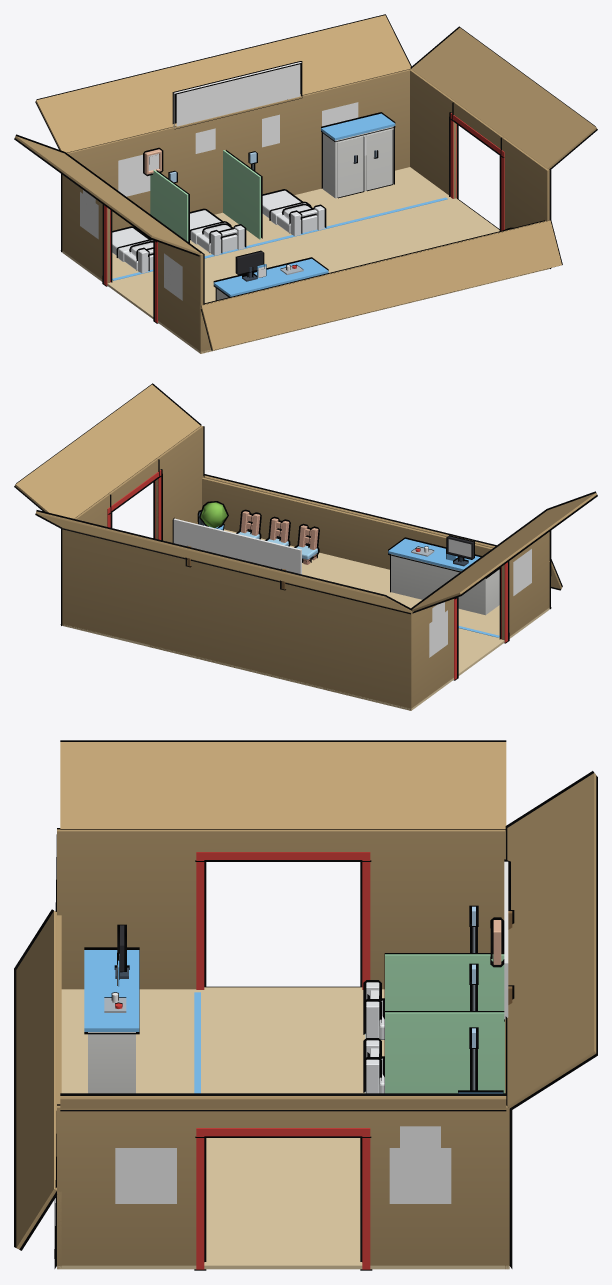
Rendered from BR_Box_Krankenhaus.glb.
The picture shows the model from 3 angles, top to bottom: view 1: azimuth 30°, elevation 25°; view 2: azimuth 150°, elevation 25°; view 3: azimuth 270°, elevation 25°; orthographic projection. The views are drawn at different scales.
Visible parts, largest first — view 1: BR_Box_Krankenhaus_Mesh, BR_Box_Krankenhaus_Outline; view 2: BR_Box_Krankenhaus_Mesh, BR_Box_Krankenhaus_Outline; view 3: BR_Box_Krankenhaus_Mesh, BR_Box_Krankenhaus_Outline.
Boxes of the visible parts, box(x1,y1,x2,y2) form: BR_Box_Krankenhaus_Mesh: box(15, 15, 596, 353); BR_Box_Krankenhaus_Outline: box(14, 14, 597, 350); BR_Box_Krankenhaus_Mesh: box(15, 384, 596, 710); BR_Box_Krankenhaus_Outline: box(14, 383, 597, 680); BR_Box_Krankenhaus_Mesh: box(16, 742, 596, 1269); BR_Box_Krankenhaus_Outline: box(14, 740, 597, 1270).
Size of the model in its own units: 12.31 by 3.58 by 8.52.
